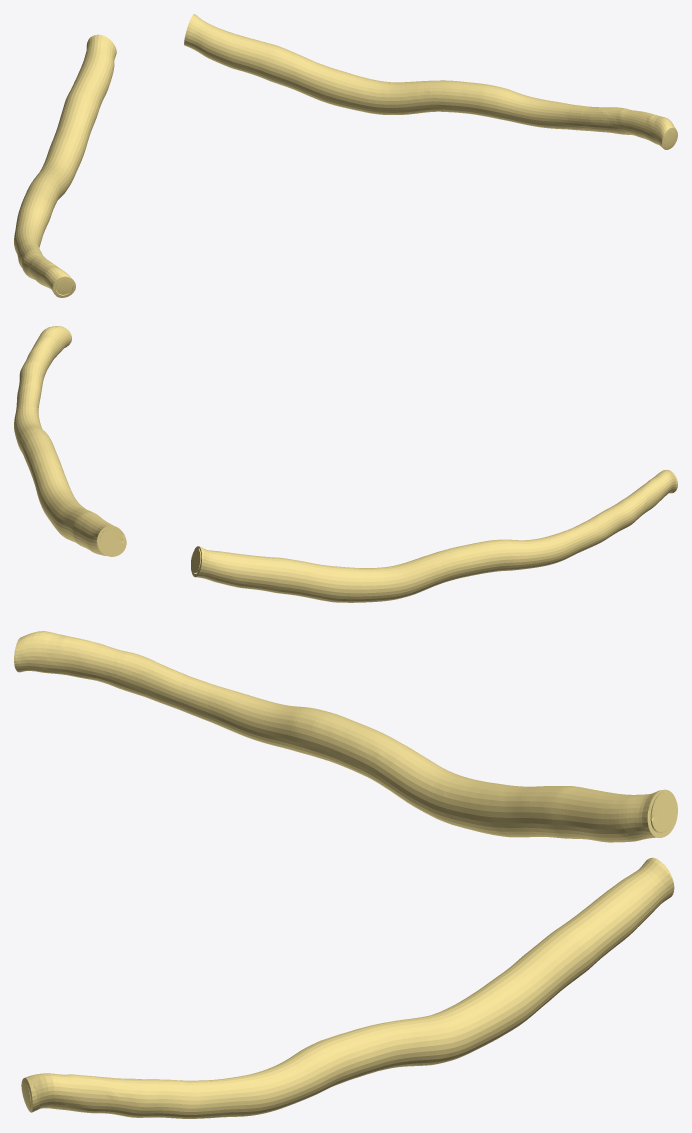
File: optic-nerves.glb
3 renders of one model, top to bottom at view 1: azimuth 30°, elevation 25°; view 2: azimuth 150°, elevation 25°; view 3: azimuth 270°, elevation 25°, orthographic. The views are drawn at different scales.
Parts seen in each view (by area): view 1: optic-nerves; view 2: optic-nerves; view 3: optic-nerves.
Part boxes in pixels (x1=…): optic-nerves: x1=14, y1=14, x2=677, y2=297; optic-nerves: x1=14, y1=326, x2=677, y2=602; optic-nerves: x1=14, y1=631, x2=677, y2=1118.
Bounding box in the file's own units: 0.0681 × 0.00807 × 0.0423.
